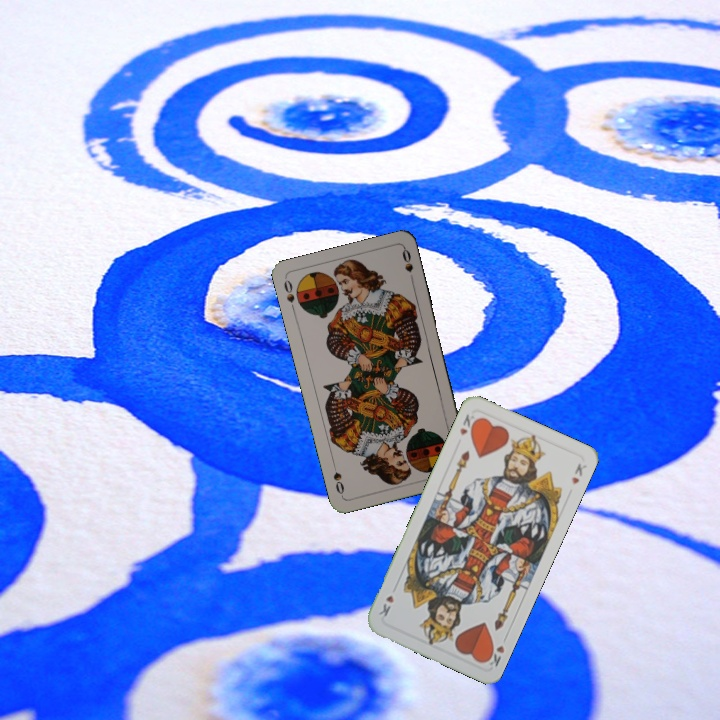HK: (481, 631, 510, 670), (455, 410, 481, 438)
SO: (280, 276, 298, 315)
